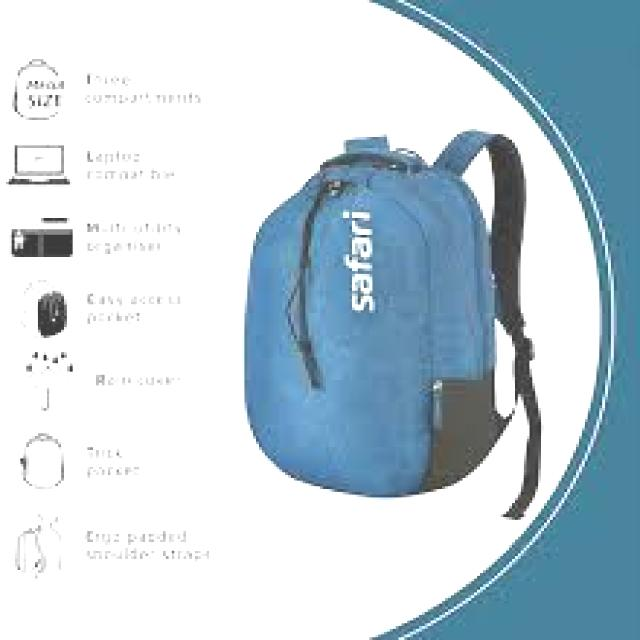backpack: (243, 127, 543, 519)
